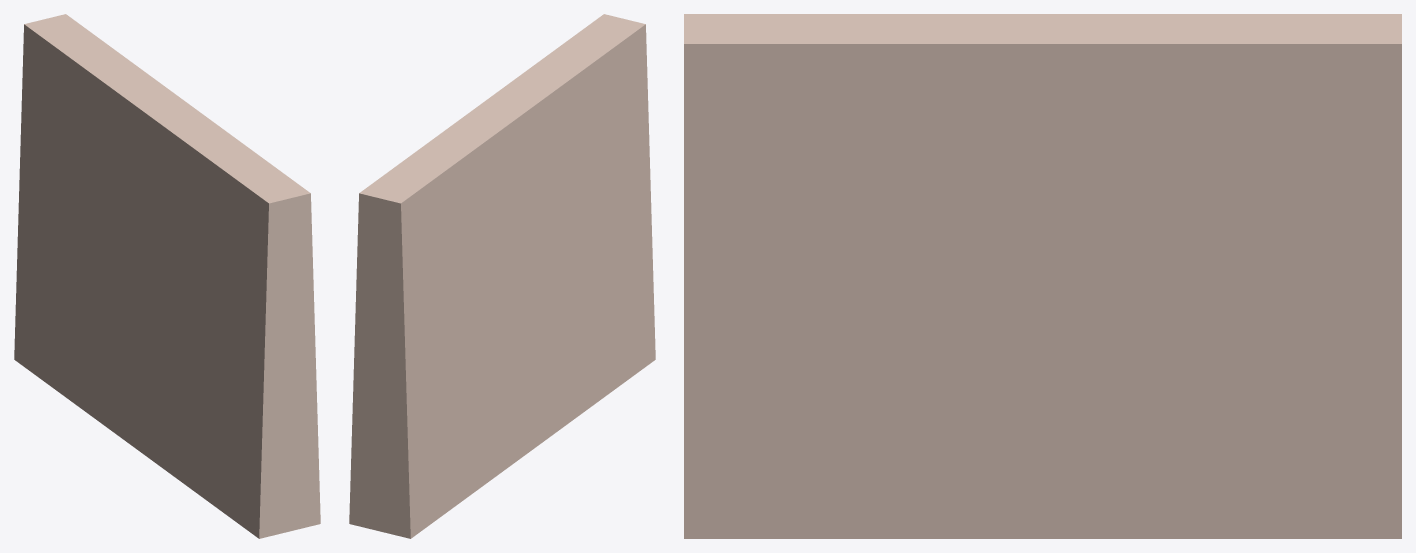
File: DustCity_InnerWalls.fbx
3 views of the same model, side by side, from view 1: azimuth 30°, elevation 25°; view 2: azimuth 150°, elevation 25°; view 3: azimuth 270°, elevation 25° (orthographic). The views are drawn at different scales.
Parts seen in each view (by area): view 1: DCInnerWall; view 2: DCInnerWall; view 3: DCInnerWall.
Boxes of the visible parts, <box> form: DCInnerWall: <box>14,14,320,538</box>; DCInnerWall: <box>349,14,655,538</box>; DCInnerWall: <box>684,14,1401,538</box>.
Bounding box in the file's own units: 14.51 × 75 × 100.
